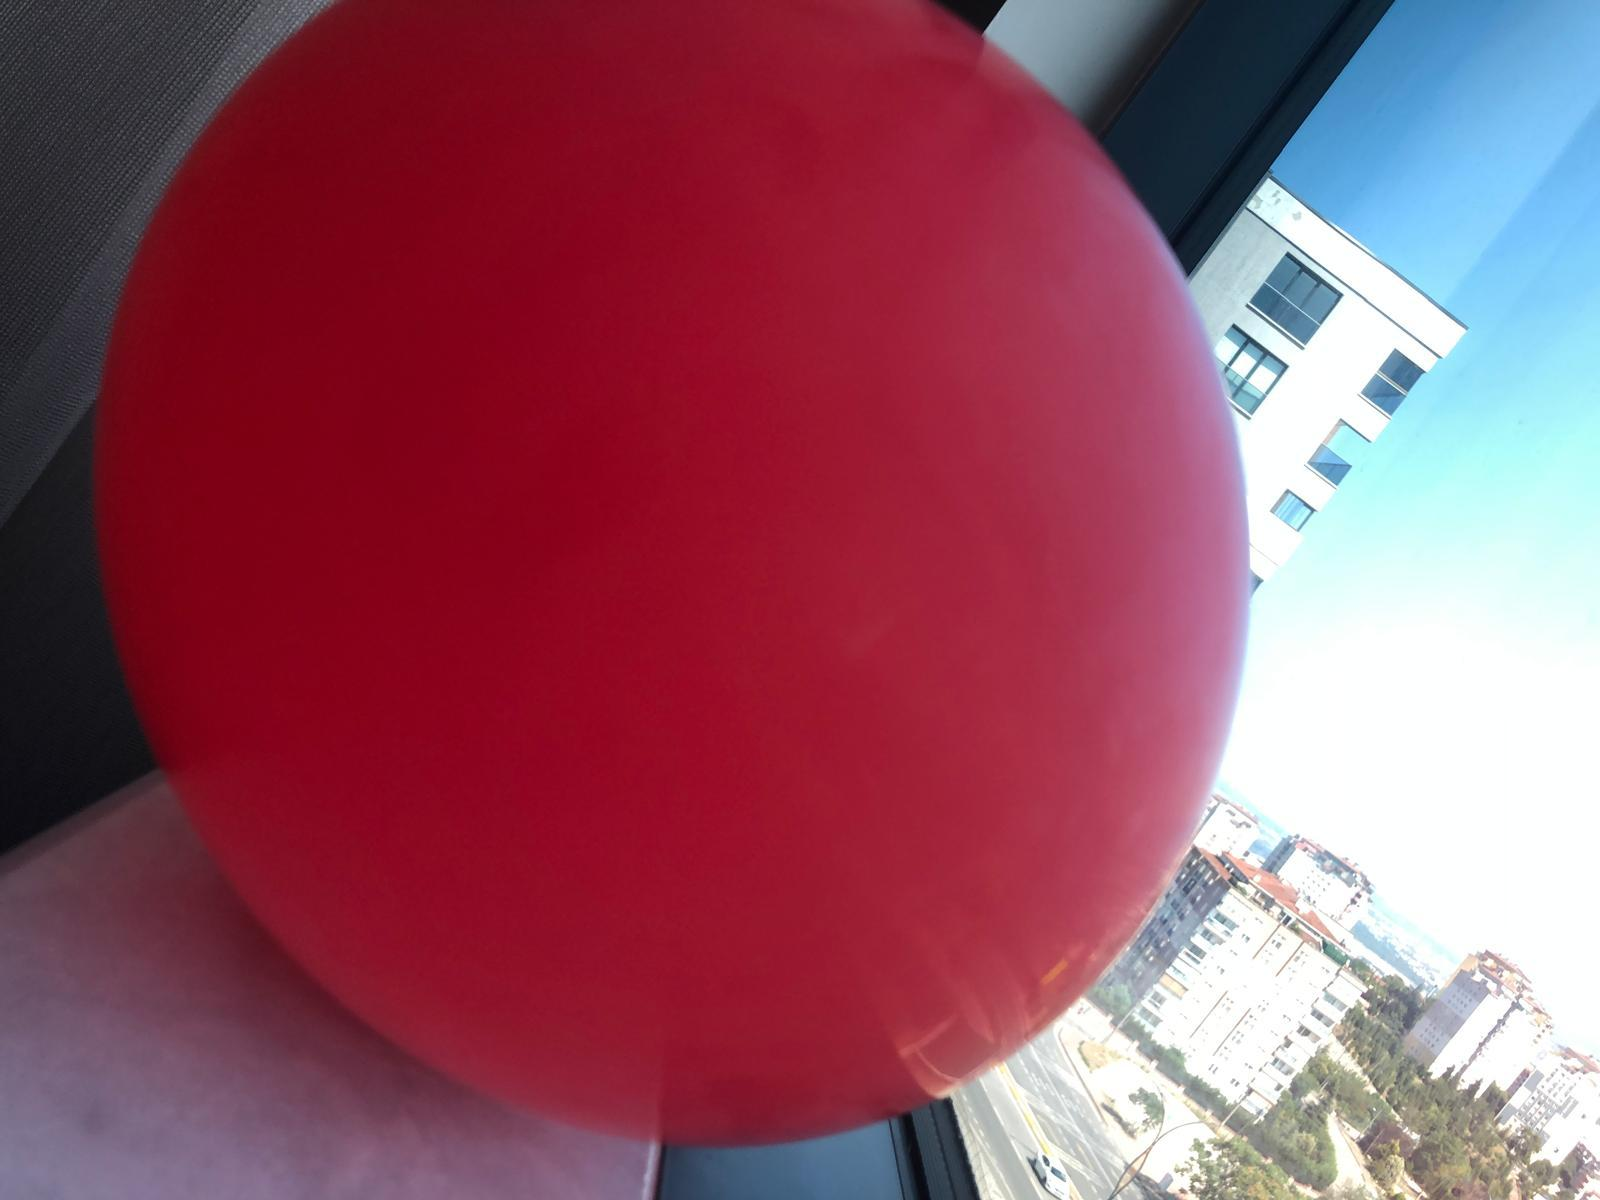red: (93, 16, 1249, 1150)
